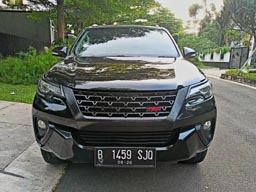plat: (94, 147, 157, 160)
